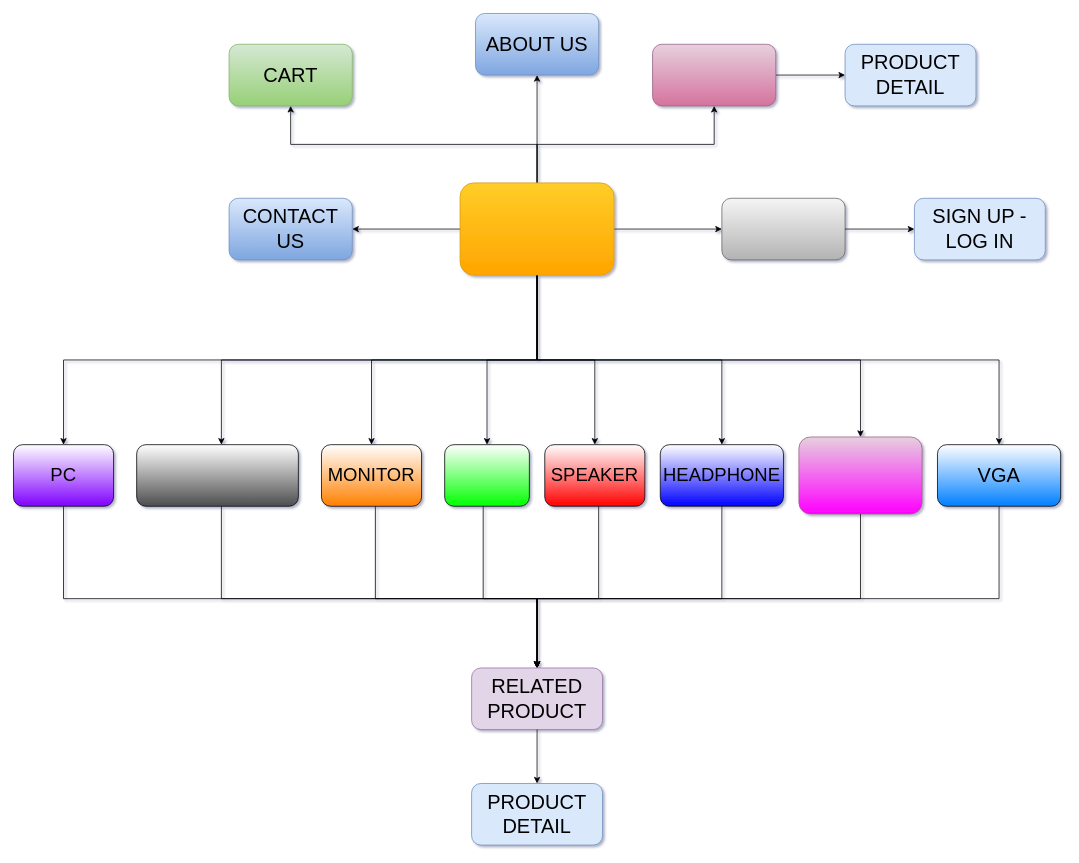
Image size: 1079x863. Some labels were removed from this diagram. The box of each missing label's shape, as (x1, y1, x2, y2) in pixels:
ALL PRODUCT: (652, 44, 776, 106)
CPU: (798, 436, 922, 514)
HOME PAGE: (459, 182, 614, 275)
LAPTOP - GAMING LAPTOP: (136, 444, 298, 506)
LOG IN: (721, 198, 845, 260)
MOUSE: (444, 444, 529, 506)
